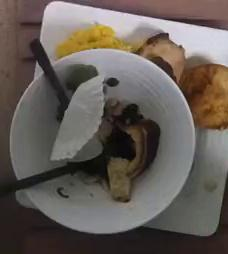bread: (97, 99, 158, 200)
pork: (137, 33, 185, 84)
rice: (56, 24, 130, 58)
unknown: (179, 64, 228, 129)
